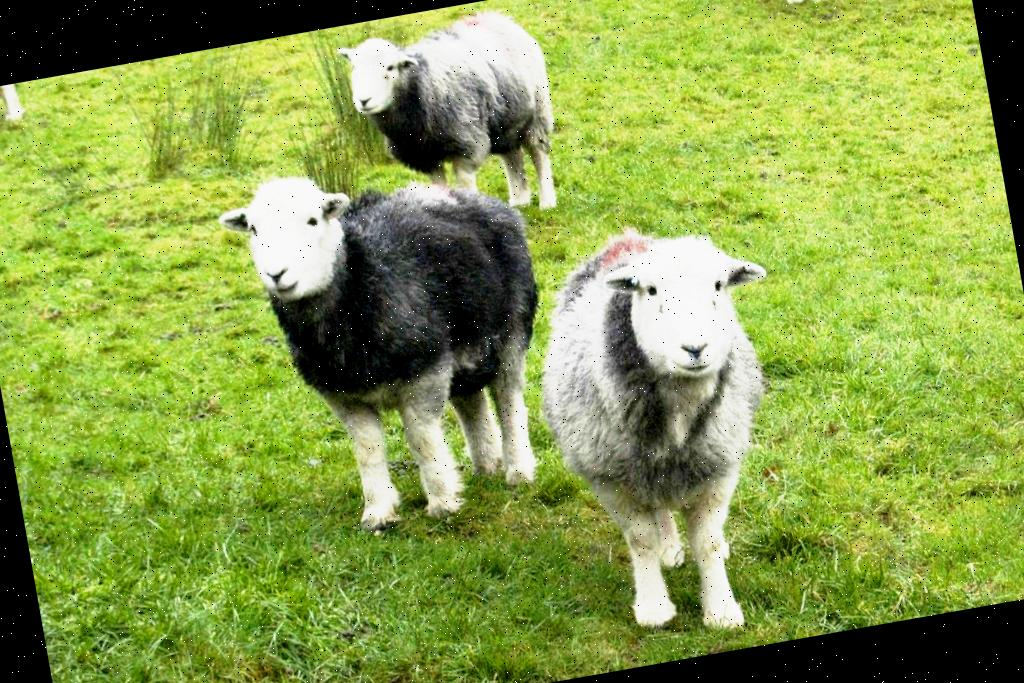Sheep: (206, 134, 580, 544), (521, 210, 825, 652), (342, 14, 569, 244), (766, 0, 840, 20), (0, 82, 23, 137)
